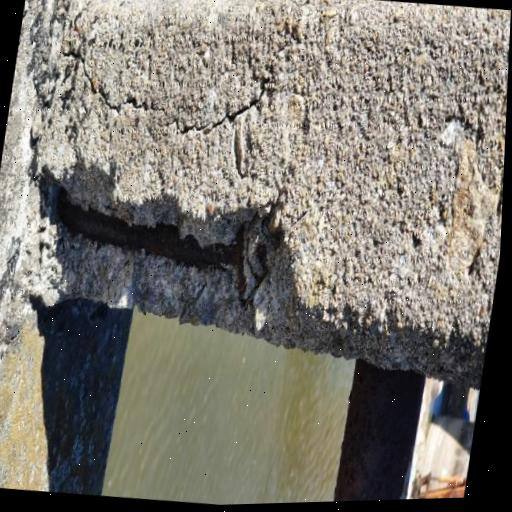exposed_rebar: (57, 190, 247, 298)
spalling: (39, 165, 298, 342)
